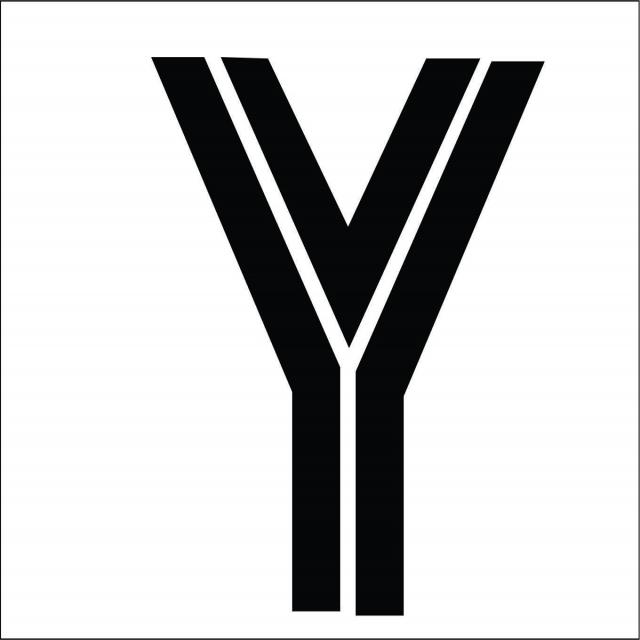Y: (115, 15, 532, 640)
